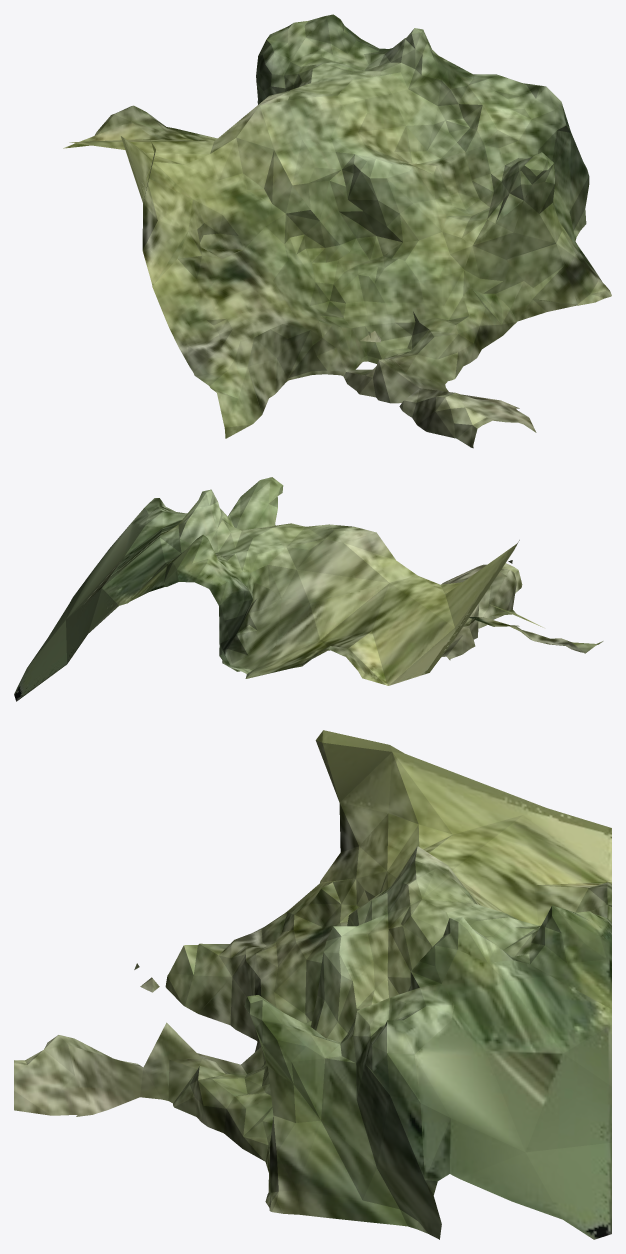
3 renders of one model, top to bottom at view 1: azimuth 30°, elevation 25°; view 2: azimuth 150°, elevation 25°; view 3: azimuth 270°, elevation 25°, orthographic. The views are drawn at different scales.
Size of the model in its own units: 5.9 by 2.8 by 5.9.
Materials: 3 (3 with a texture image).
